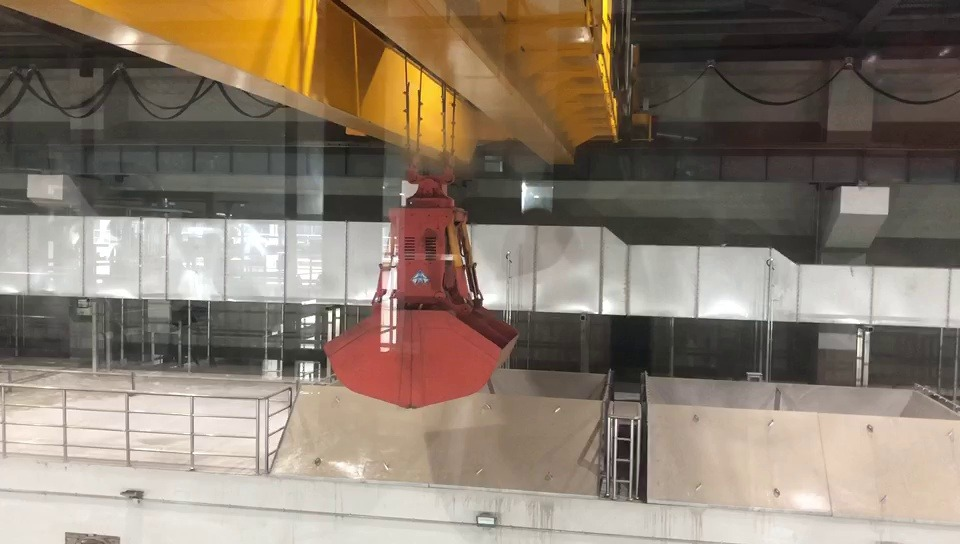grab: (312, 150, 530, 417)
